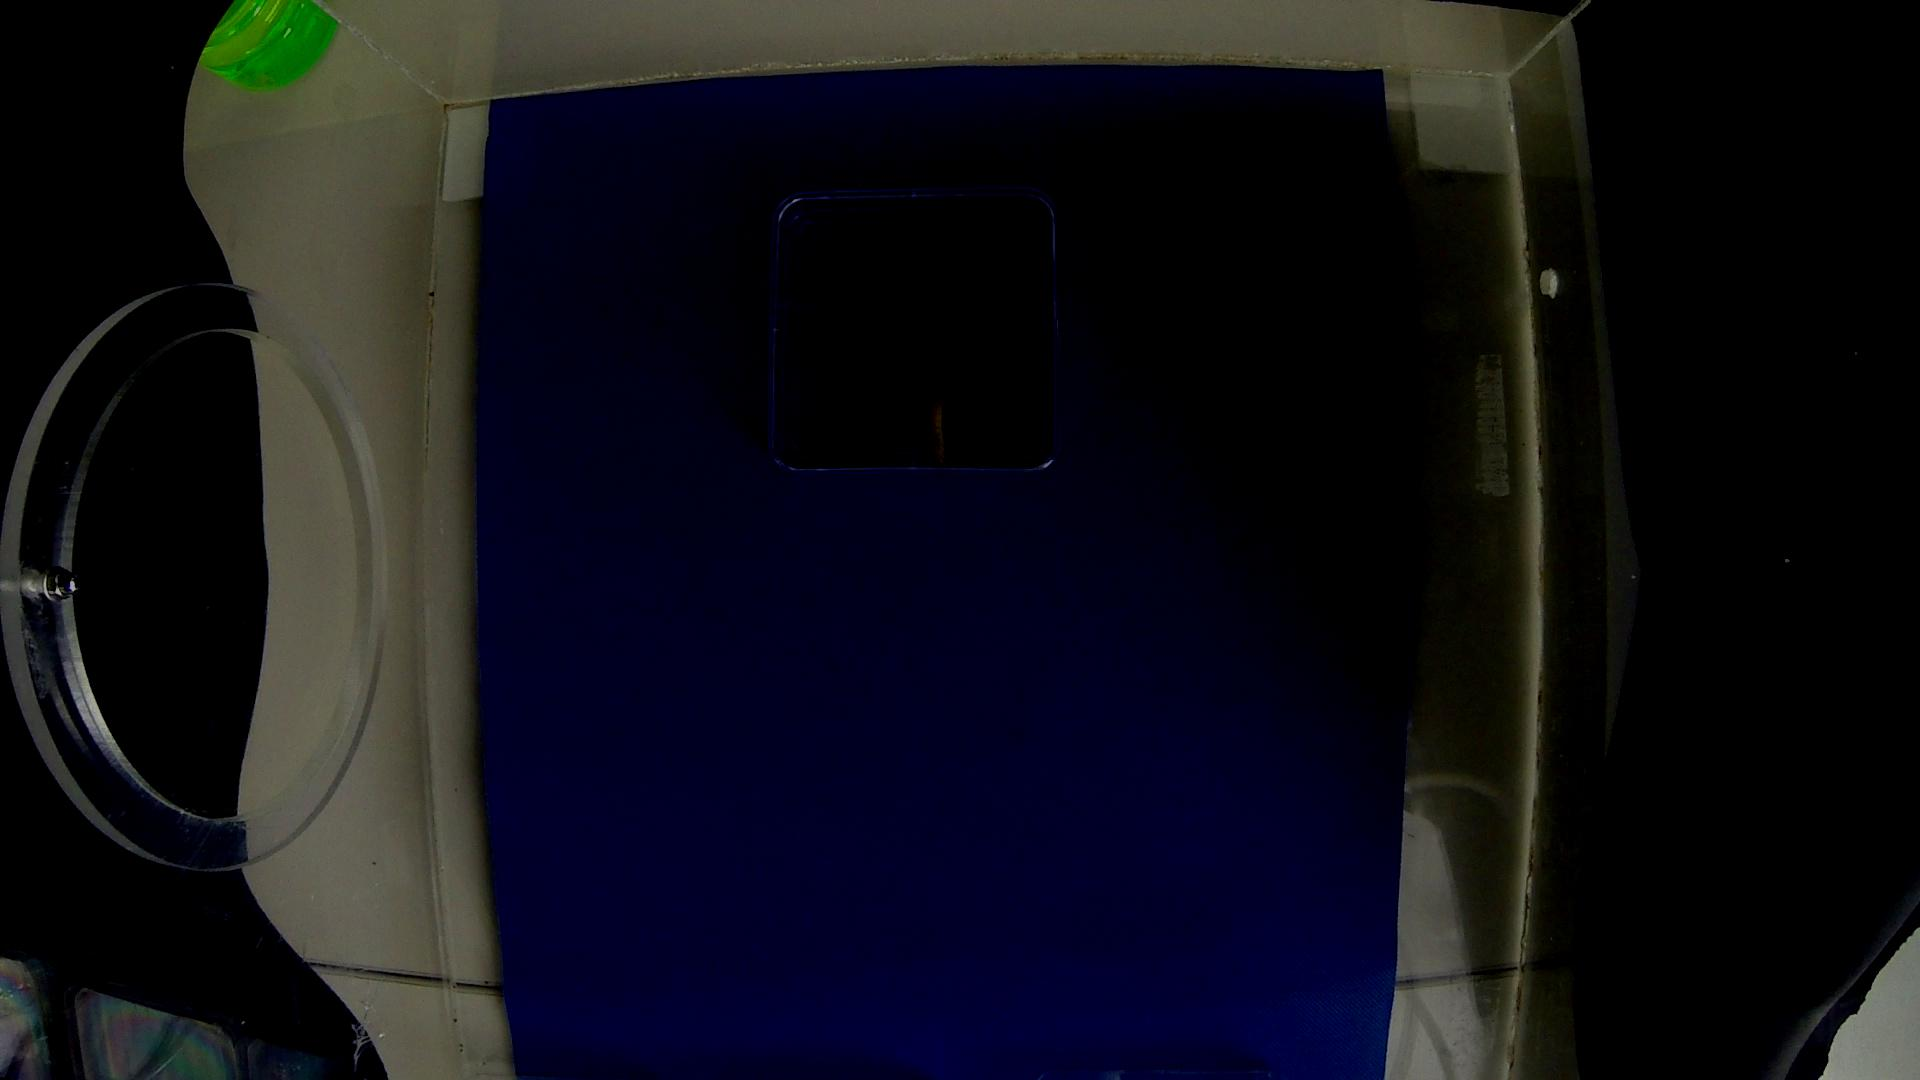larva: (920, 388, 955, 465)
